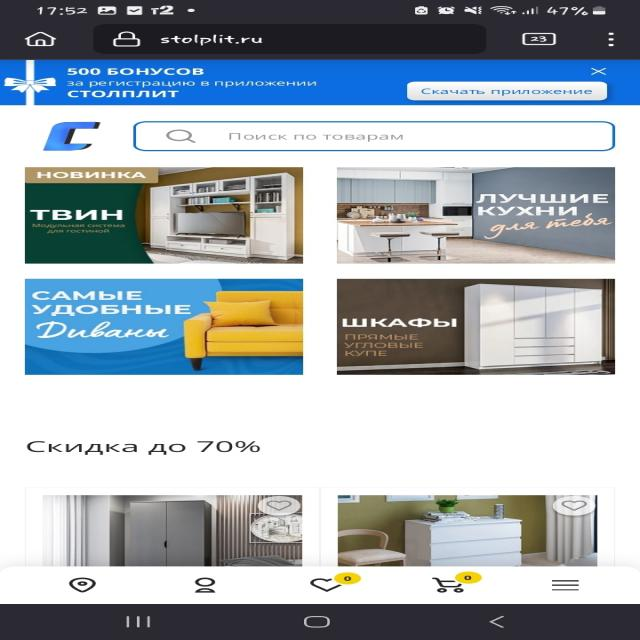button: (409, 82, 609, 99), (584, 65, 614, 79)
site: (2, 58, 640, 104)
